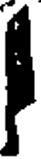Reed: (2, 4, 39, 158)
